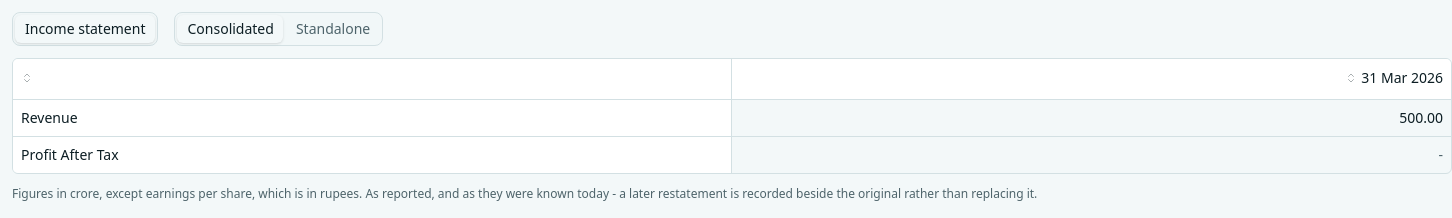
Test case: Financials › shows each basis apart, because they describe different things
Check: the text "500.00" is shown, box [1399, 108, 1443, 127]
Click the button "Standalone" at (333, 29), box [286, 15, 380, 43]
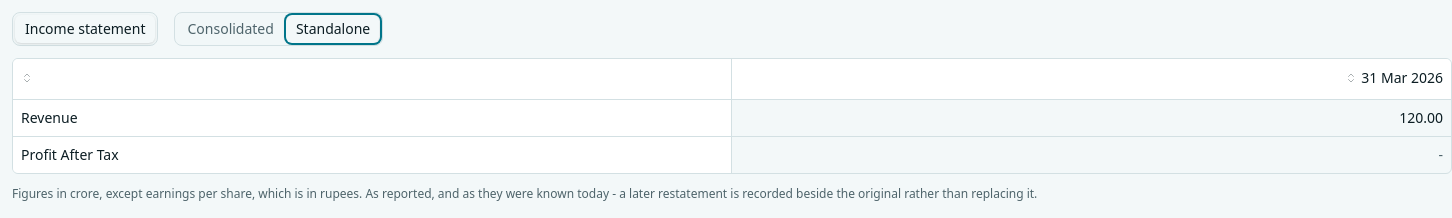
Check: the text "120.00" is shown, box [1399, 108, 1443, 127]
